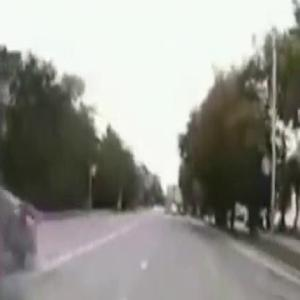moderate: (0, 170, 42, 300)
